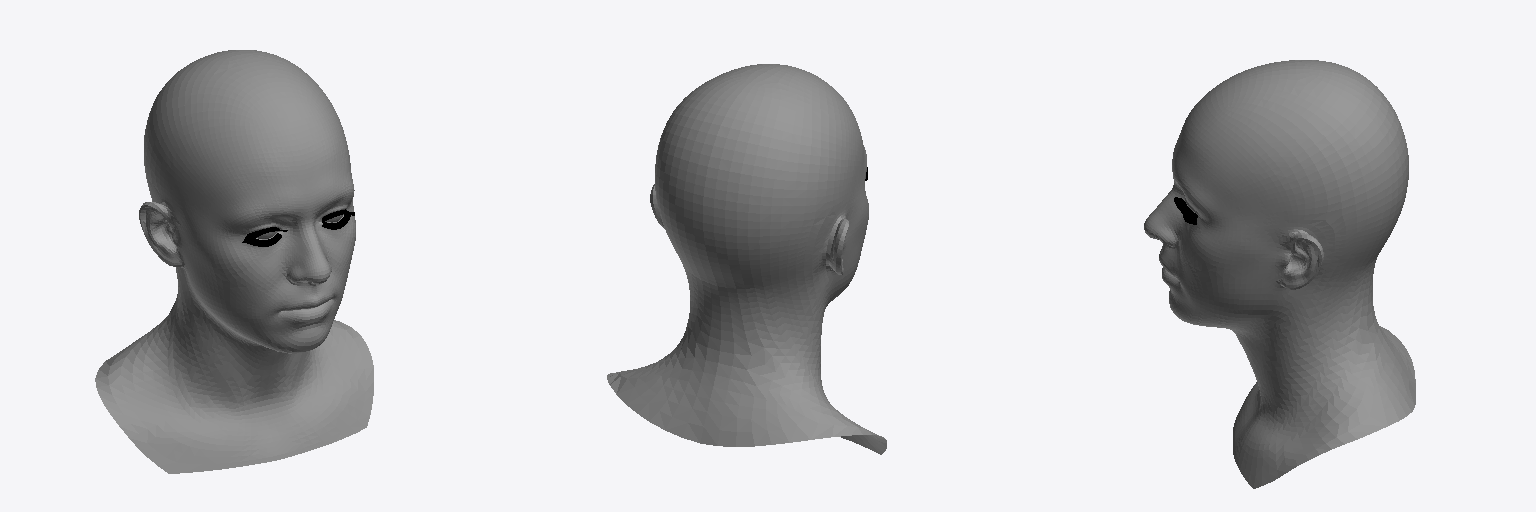
Rendered from identity025.obj.
3 renders of one model, left to right at view 1: azimuth 30°, elevation 25°; view 2: azimuth 150°, elevation 25°; view 3: azimuth 270°, elevation 25°, orthographic.
Bounding box in the file's own units: 24.83 × 33.81 × 22.33.